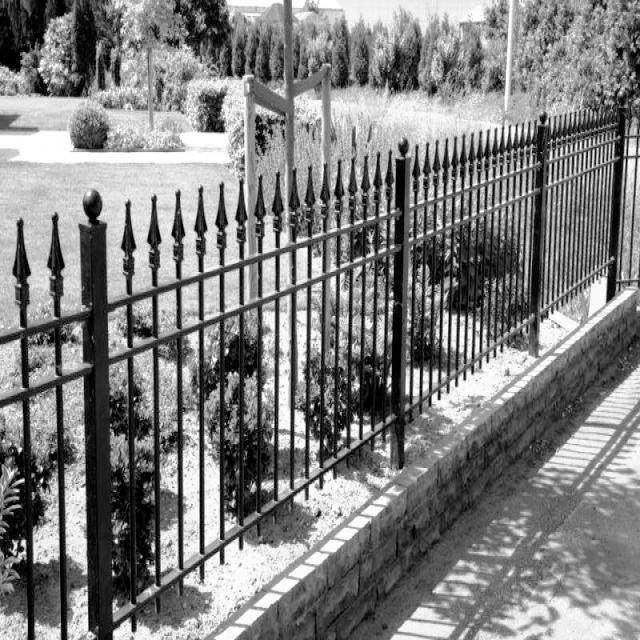fences: (0, 221, 213, 620), (425, 134, 633, 364), (236, 193, 411, 459)
